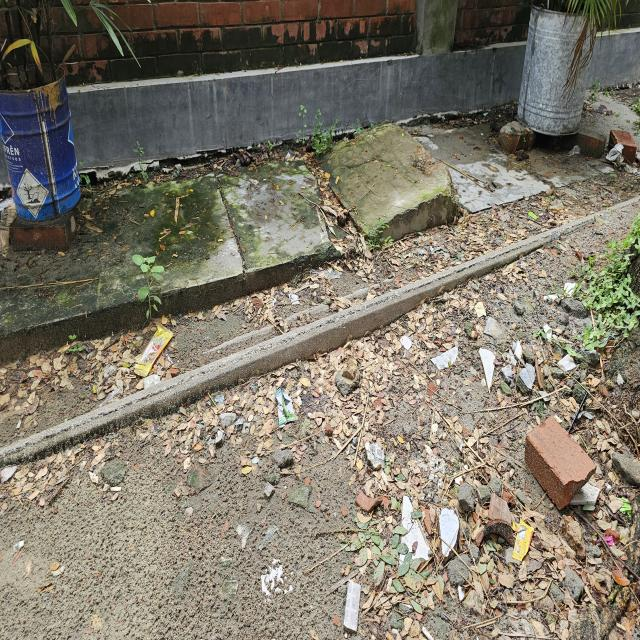artificial_container: (0, 59, 82, 224), (515, 0, 594, 140)
